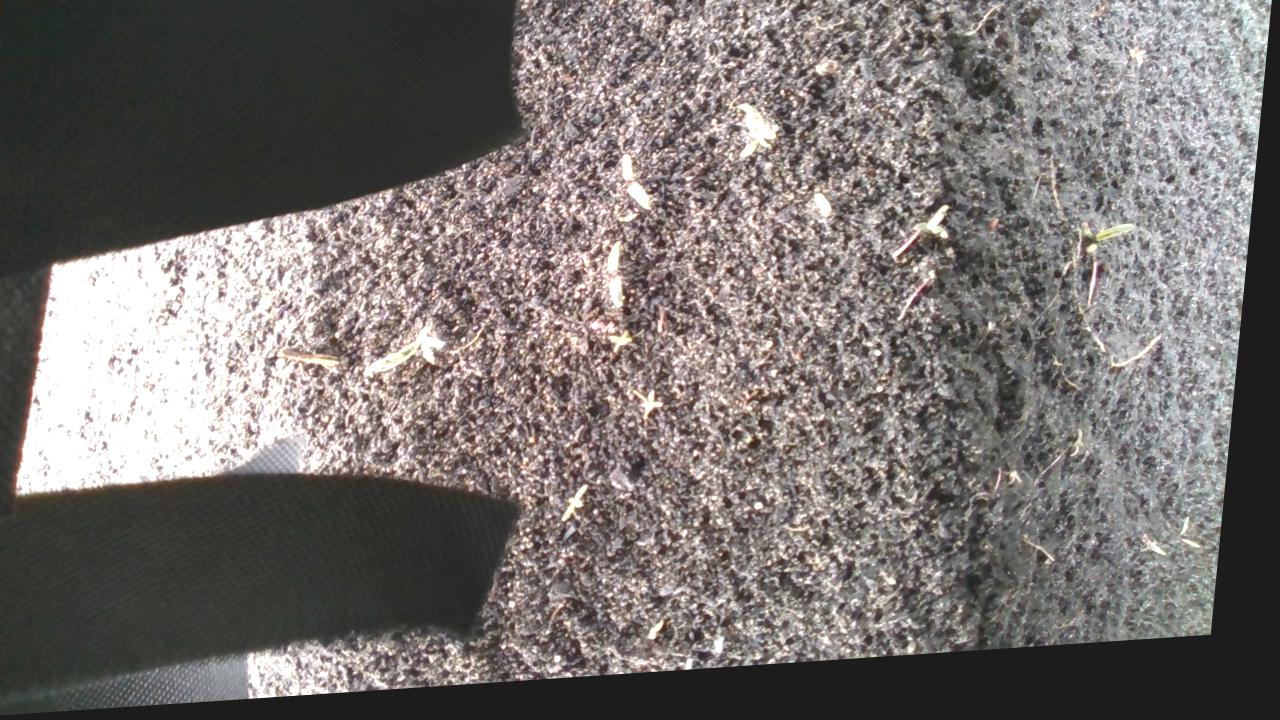weed: (618, 157, 663, 222), (604, 246, 639, 319), (1092, 236, 1144, 269), (924, 215, 958, 254), (614, 333, 658, 362), (569, 492, 599, 530), (642, 397, 677, 427)
